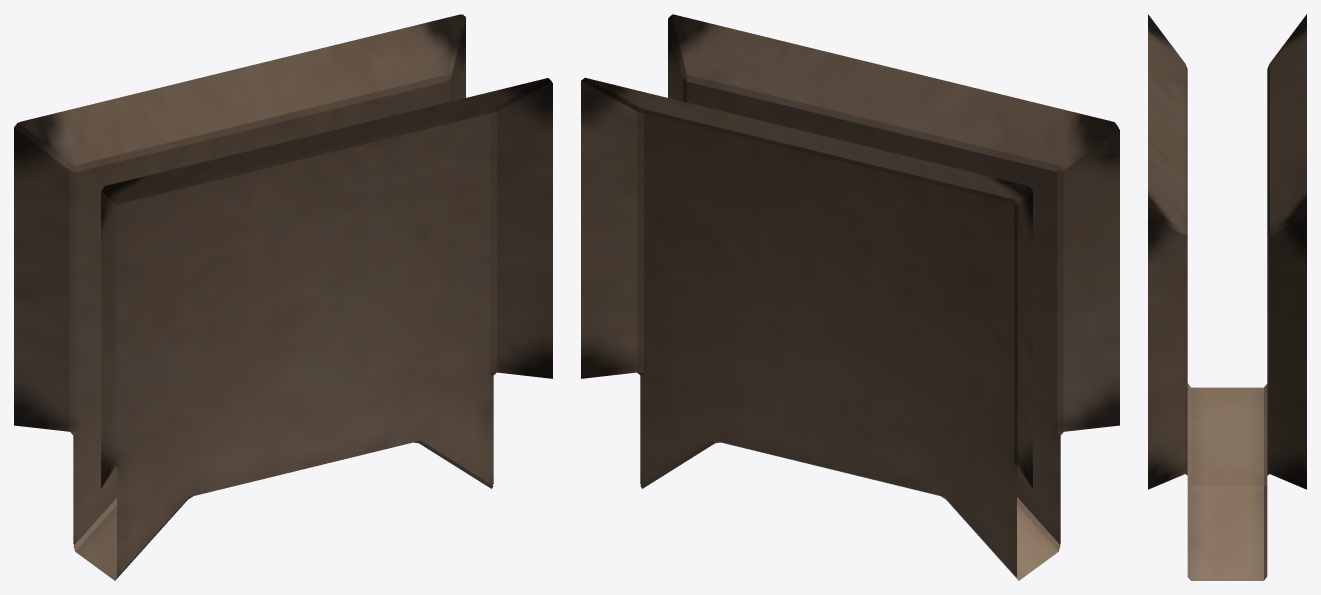
Rendered from general_beam_inner_panel.obj.
3 views of the same model, side by side, from view 1: azimuth 30°, elevation 25°; view 2: azimuth 150°, elevation 25°; view 3: azimuth 270°, elevation 25° (orthographic). The views are drawn at different scales.
Parts seen in each view (by area): view 1: general_beam_inner_panel; view 2: general_beam_inner_panel; view 3: general_beam_inner_panel.
Part boxes in pixels (x1=…): general_beam_inner_panel: x1=14, y1=14, x2=552, y2=580; general_beam_inner_panel: x1=581, y1=14, x2=1119, y2=580; general_beam_inner_panel: x1=1148, y1=14, x2=1306, y2=580.
Bounding box in the file's own units: 1.12 × 1 × 0.375.
Materials: 1 (1 with a texture image).
